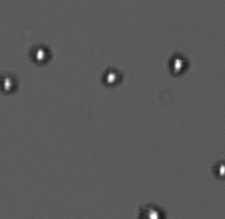Living Cell: (167, 51, 191, 78), (99, 65, 123, 87), (29, 43, 54, 64), (1, 72, 18, 97), (138, 204, 164, 218), (212, 160, 224, 177)
